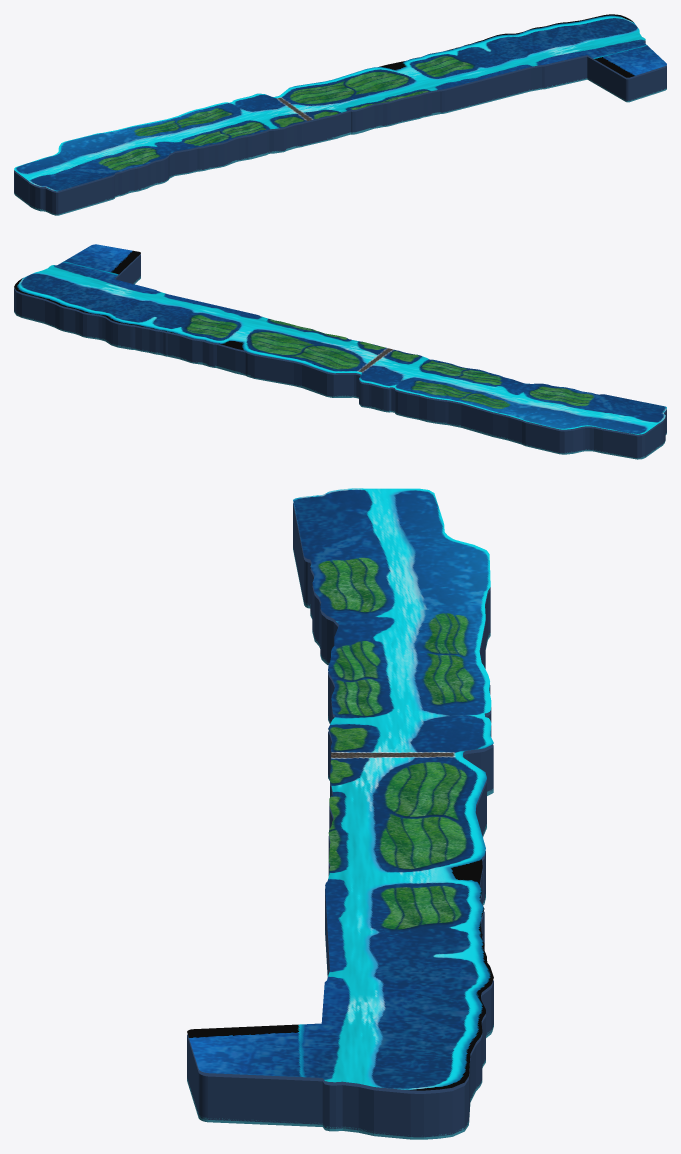
File: testCake.gltf
3 views of the same model, one above another, from view 1: azimuth 30°, elevation 25°; view 2: azimuth 150°, elevation 25°; view 3: azimuth 270°, elevation 25° (orthographic). The views are drawn at different scales.
Visible parts, largest first — view 1: Curve.001, Curve, Curve.002; view 2: Curve.001, Curve, Curve.002; view 3: Curve.001, Curve, Curve.002.
Part boxes in pixels (bbox=[...]): Curve.001: bbox=[14, 14, 666, 191]; Curve: bbox=[14, 40, 666, 214]; Curve.002: bbox=[14, 78, 666, 215]; Curve.001: bbox=[14, 244, 666, 434]; Curve: bbox=[14, 254, 666, 458]; Curve.002: bbox=[14, 276, 666, 459]; Curve.001: bbox=[187, 488, 493, 1090]; Curve: bbox=[187, 503, 493, 1137]; Curve.002: bbox=[187, 548, 493, 1139].
Bounding box in the file's own units: 0.5375 × 0.0205 × 0.1157.
3 materials, 1 textured.
